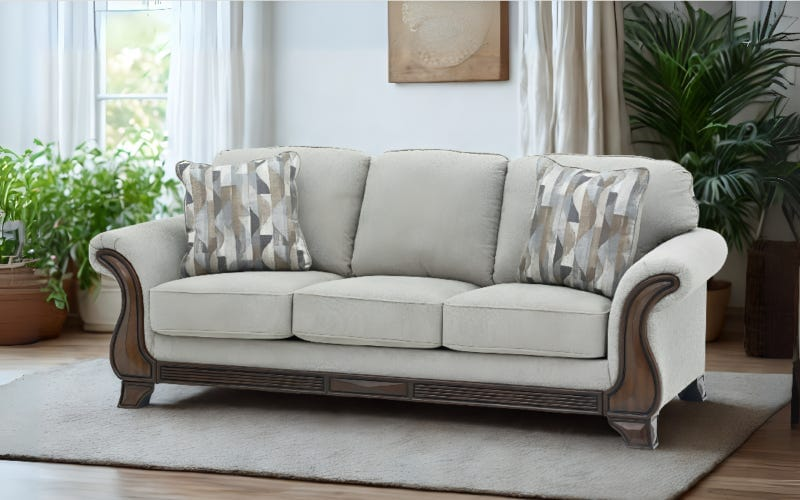3seatersofa: (91, 146, 726, 448)
backrest: (215, 146, 538, 285), (549, 156, 698, 259)
base: (157, 336, 610, 413)
leftarmrest: (606, 228, 726, 419)
leg: (609, 412, 657, 448), (120, 381, 153, 407), (678, 375, 705, 400)
pillow: (519, 158, 647, 295), (177, 151, 311, 275)
rightarmrest: (90, 216, 185, 378)
seat: (149, 271, 610, 358)
